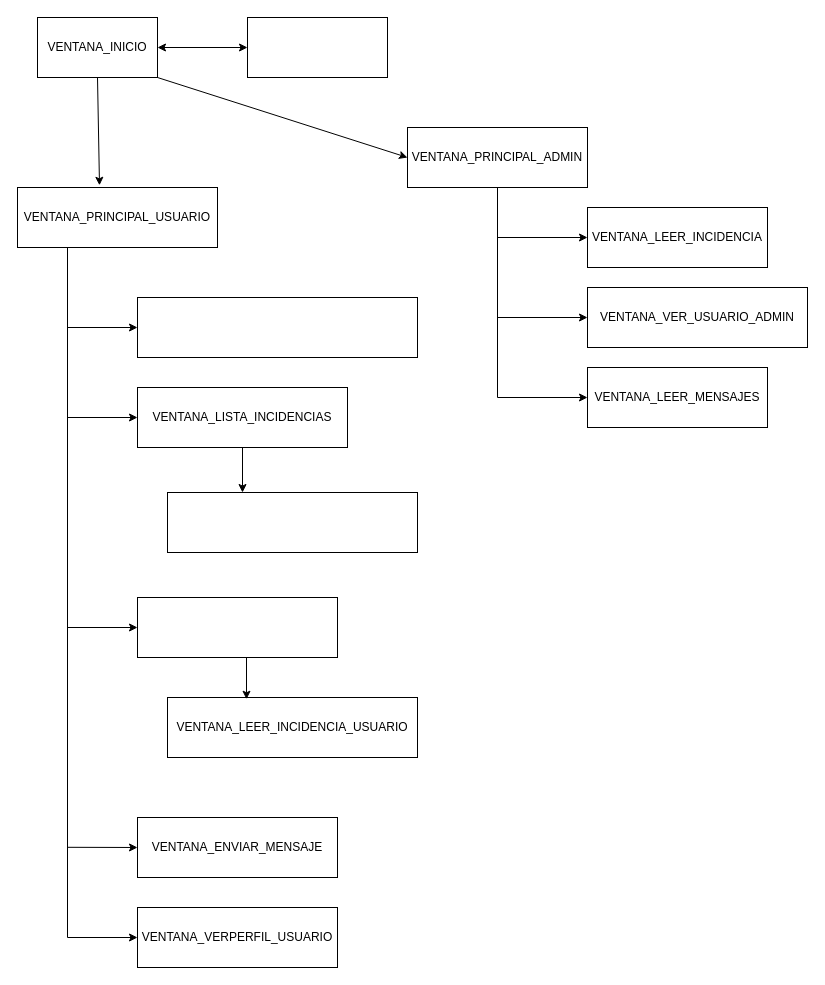
This 825x985 diagram has some shape labels left out. The centre of each missing label's shape, as x and y in pixels:
"VENTANA_AGREGARINCIDENCIA_USUARIO" belongs at (277,327).
"VENTANA_MISSOLUCIONES" belongs at (237,627).
"VENTANA_REGISTRO" belongs at (317,47).
"VENTANA_RESOLVER_INCIDENCIA" belongs at (292,522).
